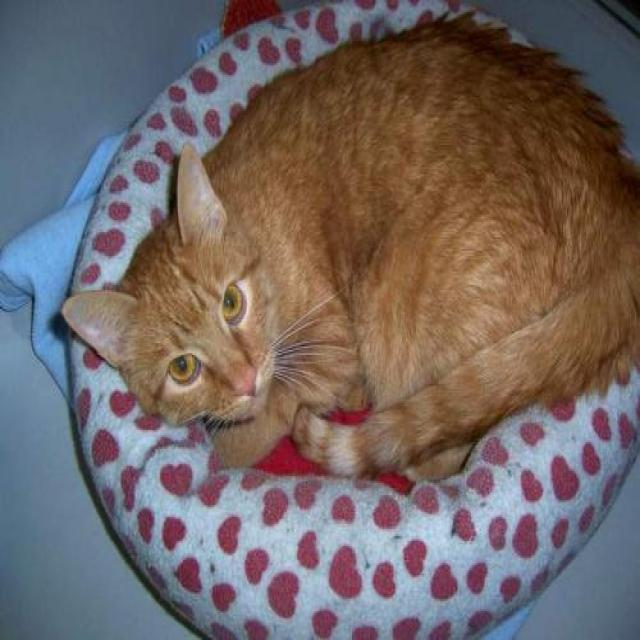Cats: (59, 10, 639, 483)
